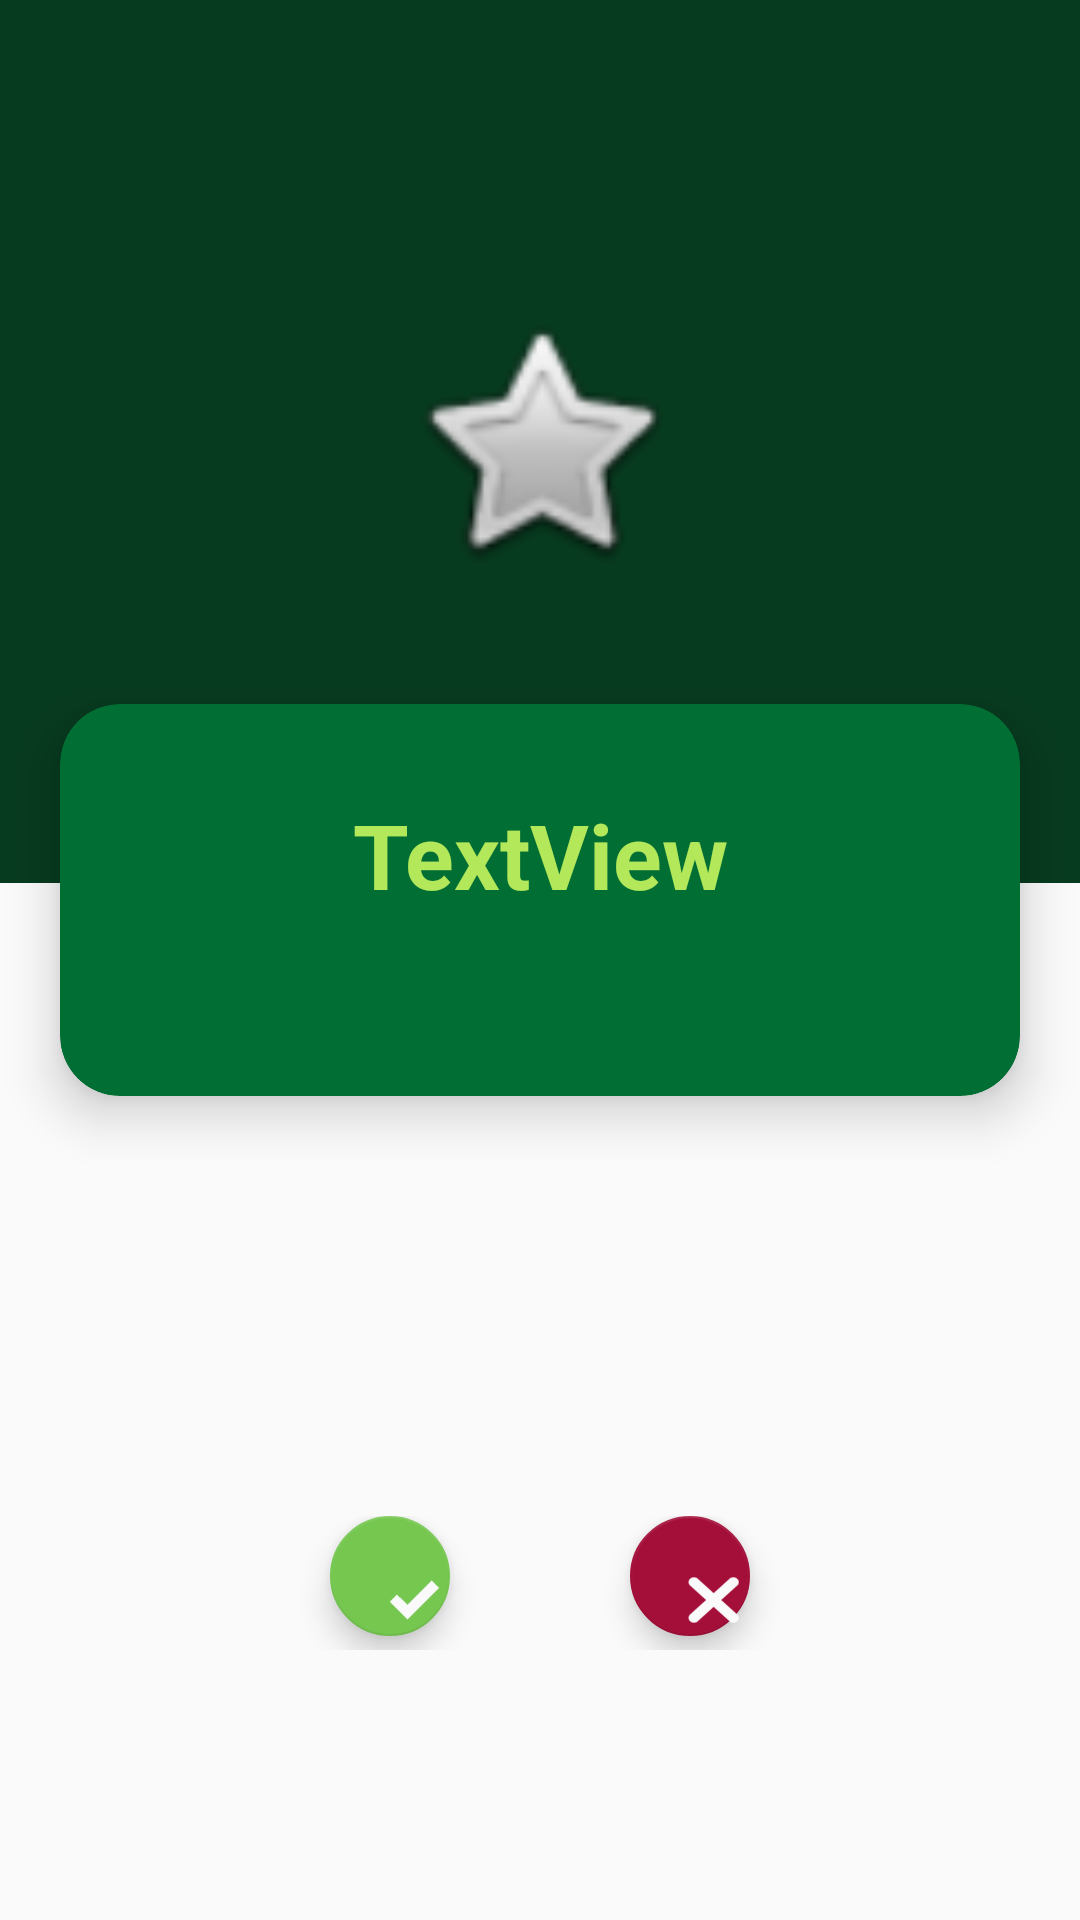

Icons on this 1080 x 1920 Android screen, each with its box as region(x1, y1, x2, y2):
cross: region(630, 1516, 750, 1636)
star: region(429, 333, 656, 549)
tick: region(330, 1516, 450, 1636)
